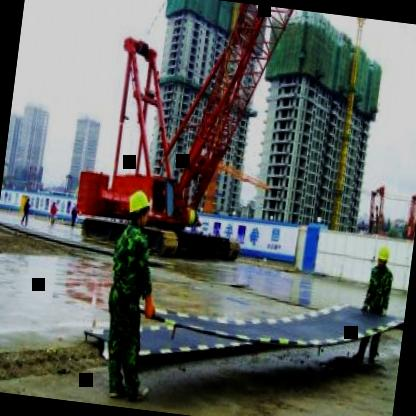helmet: (124, 184, 154, 232), (375, 240, 394, 270)
